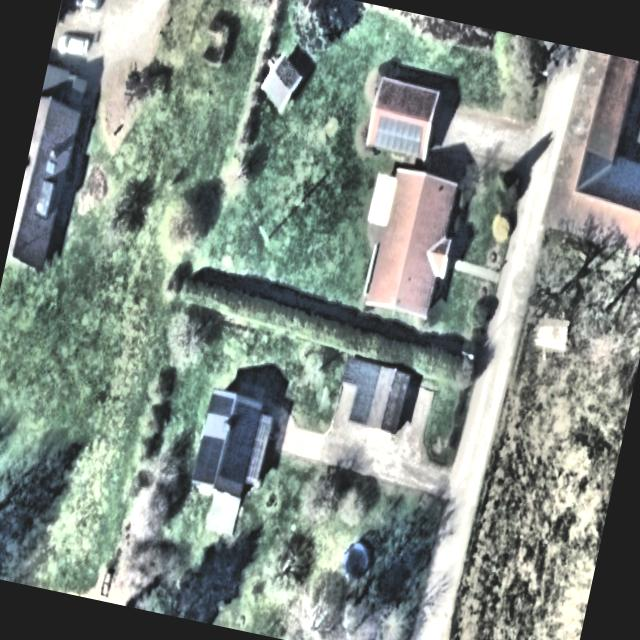roof_pv: (373, 114, 427, 161), (191, 432, 223, 483), (207, 390, 238, 424)
